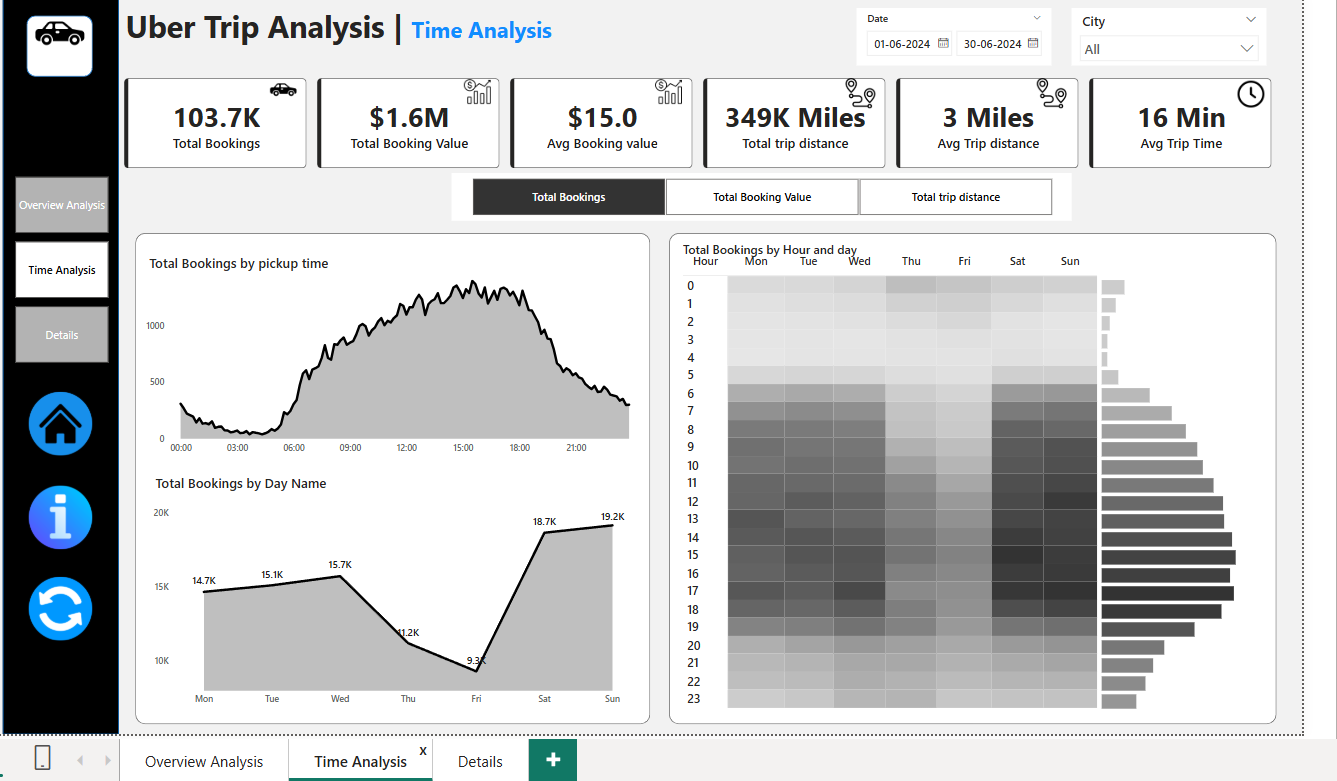

The page's visual inventory and layout, read from the dashboard file:
{"tool":"powerbi","page":{"name":"Time Analysis","canvas":[1600,900],"ordinal":1},"visuals":[{"type":"shape","box":[10.3,0,142,900.5],"z":0},{"type":"textbox","box":[156.1,5.1,603.8,63.5],"z":1000},{"type":"cardVisual","fields":{"Data":["Trip Details.Total Bookings","Trip Details.Total Booking Value","Trip Details.Avg Booking value","Trip Details.Total trip distance","Trip Details.Avg Trip distance","Trip Details.Avg Trip Time"]},"box":[154.4,93,1415,120],"z":2000},{"type":"image","box":[543.7,92.6,94.3,42.9],"z":3000},{"type":"image","box":[778.7,92.6,94.3,42.9],"z":4000},{"type":"image","box":[296.7,92.6,114.9,42.9],"z":5000},{"type":"image","box":[1003.4,92.6,113.2,46.3],"z":6000},{"type":"image","box":[1236.7,92.6,113.2,46.3],"z":7000},{"type":"image","box":[1492.3,96.1,90.9,42.9],"z":8000},{"type":"shape","box":[172.7,287.4,629.8,600.7],"z":9000},{"type":"slicer","fields":{"Values":["Dynamic Measure.Dynamic Measure"]},"box":[559.4,214,758.2,58.1],"z":10000},{"type":"slicer","fields":{"Values":["Calender Table.Date"]},"box":[1054.7,12.2,238.5,70.3],"z":11000},{"type":"slicer","fields":{"Values":["Location Table.City"]},"box":[1317.6,12.2,238.5,70.3],"z":12000},{"type":"areaChart","fields":{"Y":["Trip Details.Total Bookings"],"Category":["Trip Details.Pickup Hour(HH MM SS) (bins)"]},"box":[180.4,331.7,614.5,235.4],"z":13000},{"type":"cardVisual","fields":{"Data":["Trip Details.Title for by pickup time"]},"box":[172.7,287.4,311.8,59.6],"z":14000},{"type":"areaChart","fields":{"Y":["Trip Details.Total Bookings"],"Category":["Calender Table.Day Name"]},"box":[189.5,616,605.3,258.3],"z":15000},{"type":"cardVisual","fields":{"Data":["Trip Details.Title for by Day name"]},"box":[180.4,556.4,311.8,59.6],"z":16000},{"type":"shape","box":[825.4,287.4,742.9,600.7],"z":17000},{"type":"pivotTable","fields":{"Values":["Trip Details.Total Bookings"],"Rows":["Trip Details.Pickup Hour"],"Columns":["Calender Table.Day Name"]},"box":[837.6,305.7,545,570],"z":18000},{"type":"clusteredBarChart","fields":{"Y":["Trip Details.Total Bookings"],"Category":["Trip Details.Pickup Hour"]},"box":[1349.7,331.7,175.8,565],"z":19000},{"type":"cardVisual","fields":{"Data":["Trip Details.Title for by Hour and day"]},"box":[825.4,272.1,311.8,59.6],"z":20000},{"type":"group","id":"g1","title":"Group 1","box":[39.7,12.2,81,84.1],"z":21000},{"type":"pageNavigator","box":[26,218.6,114.6,229.3],"z":22000},{"type":"image","box":[32.1,476.9,97.8,87.1],"z":24000},{"type":"image","box":[32.1,591.5,97.8,87.1],"z":25000},{"type":"image","box":[32.1,703.1,97.8,87],"z":26000},{"type":"shape","box":[39.7,21.4,81,74.9],"z":28000,"group":"g1"},{"type":"image","box":[39.7,12.2,81,70.3],"z":29000,"group":"g1"}]}

Visuals, with their boxes on the page's 1600x900 design canvas (x1, y1, x2, y2). These are canvas units, not pixel positions in the 1337x781 screenshot, which may show the page scaled, cropped or inside an application window:
shape: bbox=(10, 0, 152, 900)
textbox: bbox=(156, 5, 760, 69)
cardVisual - Trip Details.Total Bookings x Trip Details.Total Booking Value: bbox=(154, 93, 1569, 213)
image: bbox=(544, 93, 638, 136)
image: bbox=(779, 93, 873, 136)
image: bbox=(297, 93, 412, 136)
image: bbox=(1003, 93, 1117, 139)
image: bbox=(1237, 93, 1350, 139)
image: bbox=(1492, 96, 1583, 139)
shape: bbox=(173, 287, 802, 888)
slicer - Dynamic Measure.Dynamic Measure: bbox=(559, 214, 1318, 272)
slicer - Calender Table.Date: bbox=(1055, 12, 1293, 82)
slicer - Location Table.City: bbox=(1318, 12, 1556, 82)
areaChart - Trip Details.Total Bookings x Trip Details.Pickup Hour(HH MM SS) (bins): bbox=(180, 332, 795, 567)
cardVisual - Trip Details.Title for by pickup time: bbox=(173, 287, 484, 347)
areaChart - Trip Details.Total Bookings x Calender Table.Day Name: bbox=(190, 616, 795, 874)
cardVisual - Trip Details.Title for by Day name: bbox=(180, 556, 492, 616)
shape: bbox=(825, 287, 1568, 888)
pivotTable - Trip Details.Total Bookings x Trip Details.Pickup Hour: bbox=(838, 306, 1383, 876)
clusteredBarChart - Trip Details.Total Bookings x Trip Details.Pickup Hour: bbox=(1350, 332, 1526, 897)
cardVisual - Trip Details.Title for by Hour and day: bbox=(825, 272, 1137, 332)
"Group 1" group: bbox=(40, 12, 121, 96)
pageNavigator: bbox=(26, 219, 141, 448)
image: bbox=(32, 477, 130, 564)
image: bbox=(32, 592, 130, 679)
image: bbox=(32, 703, 130, 790)
shape: bbox=(40, 21, 121, 96)
image: bbox=(40, 12, 121, 82)
